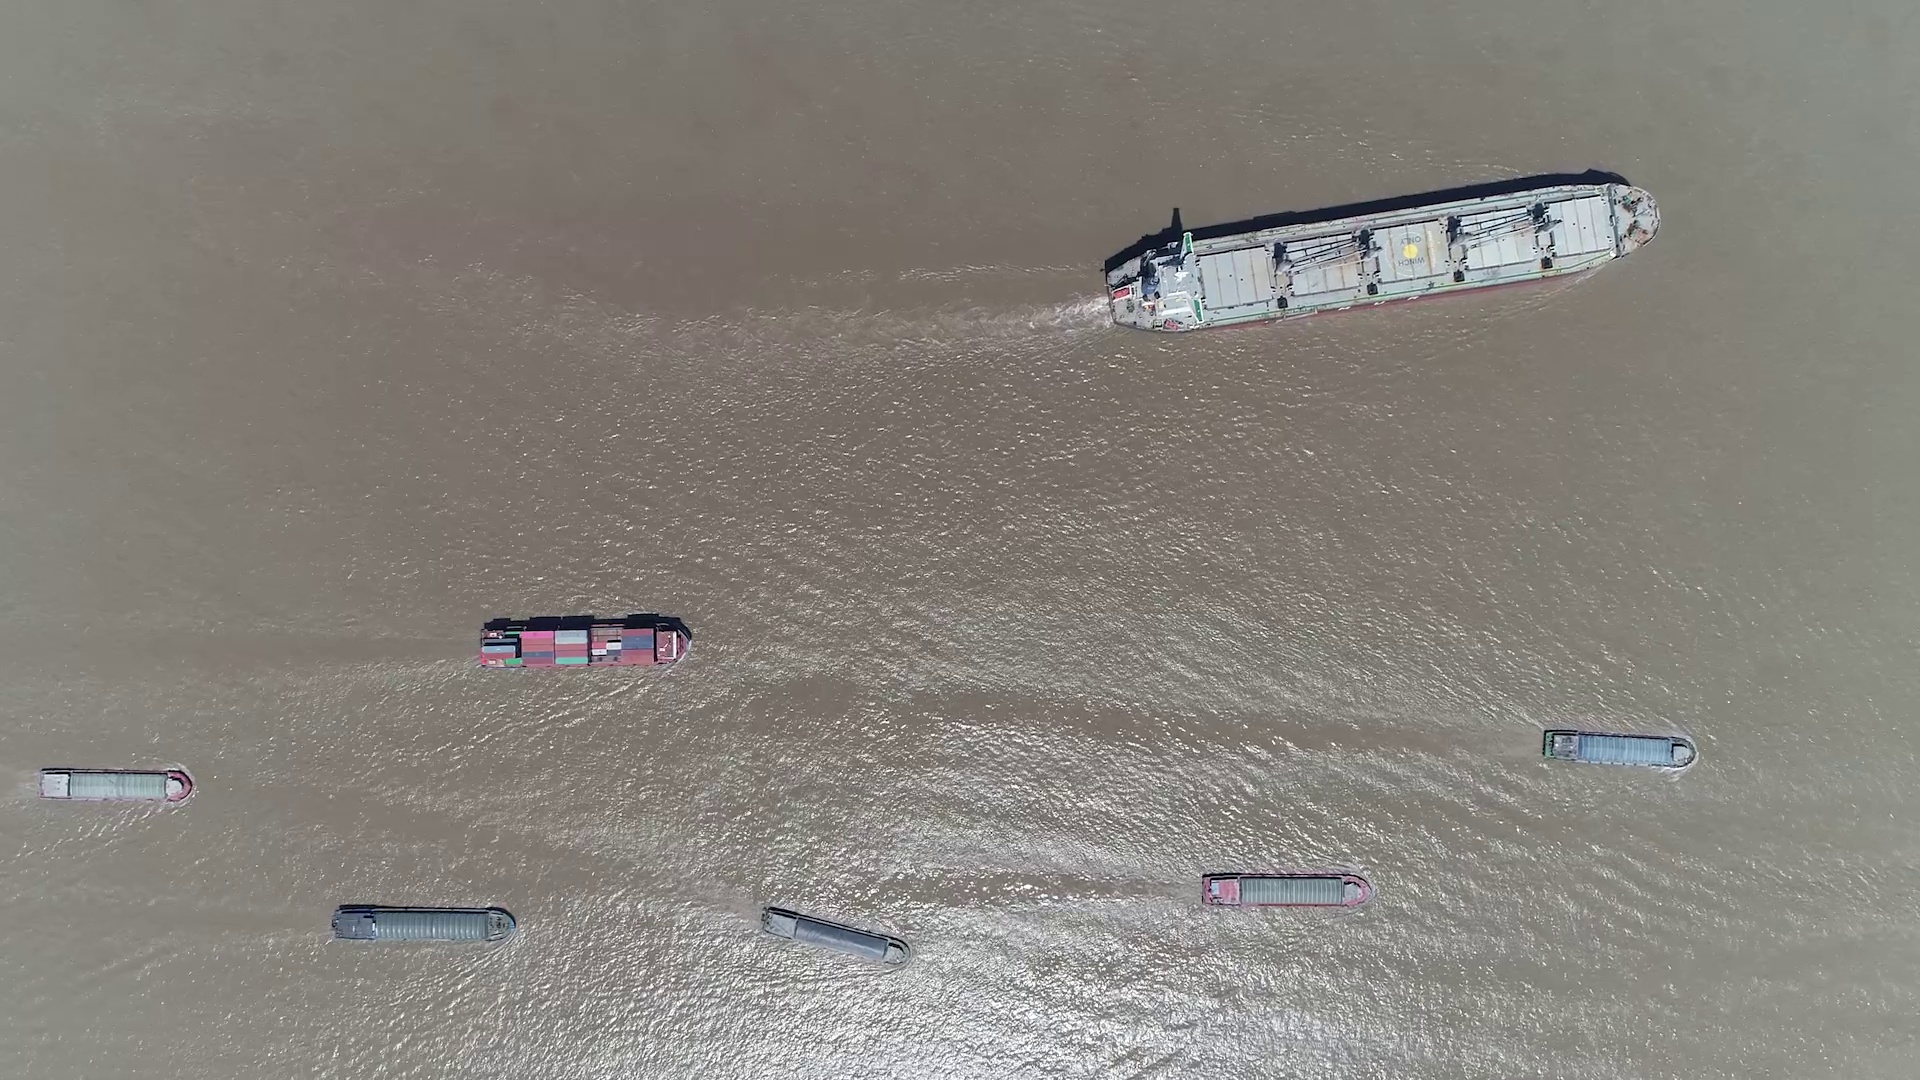ship: (1104, 183, 1658, 331), (479, 618, 688, 669), (760, 906, 909, 963), (332, 905, 514, 944), (1542, 729, 1696, 769), (1204, 872, 1371, 907), (36, 767, 191, 803)
